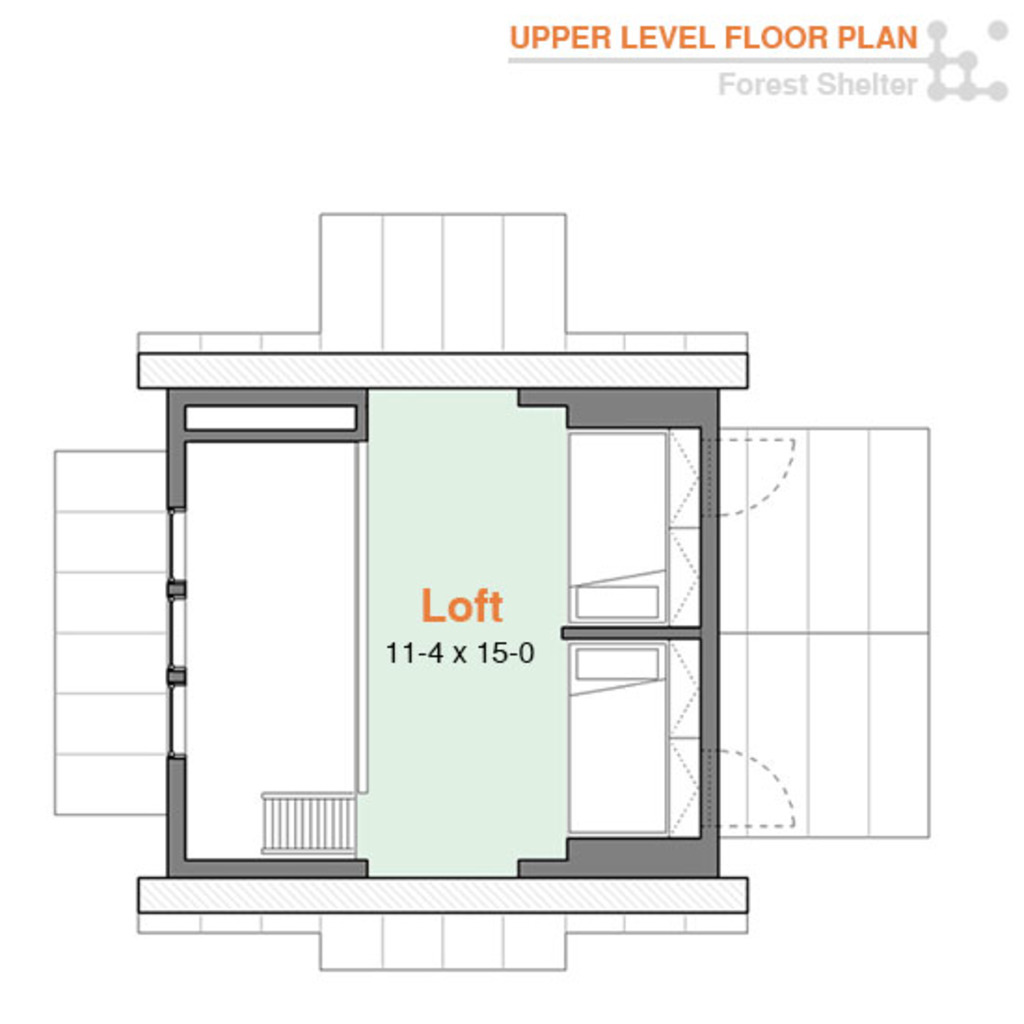bed: (561, 427, 673, 625), (572, 641, 675, 838)
window: (155, 678, 194, 755), (163, 503, 197, 583), (156, 594, 191, 666)
